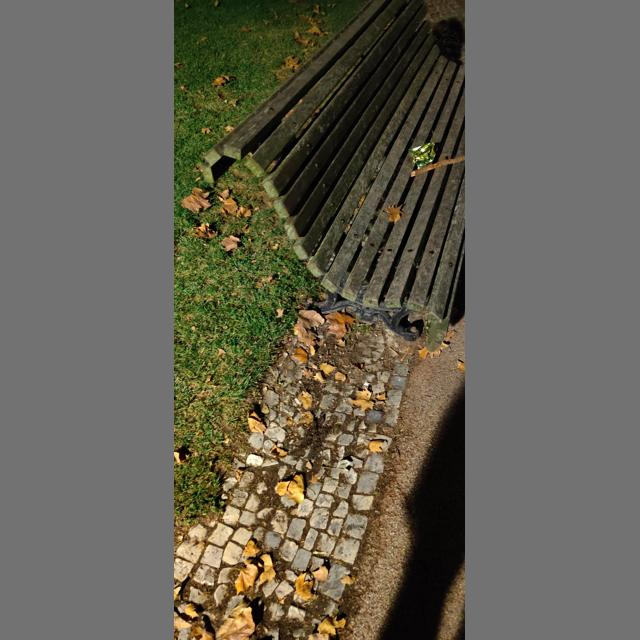litter: (409, 142, 437, 169)
